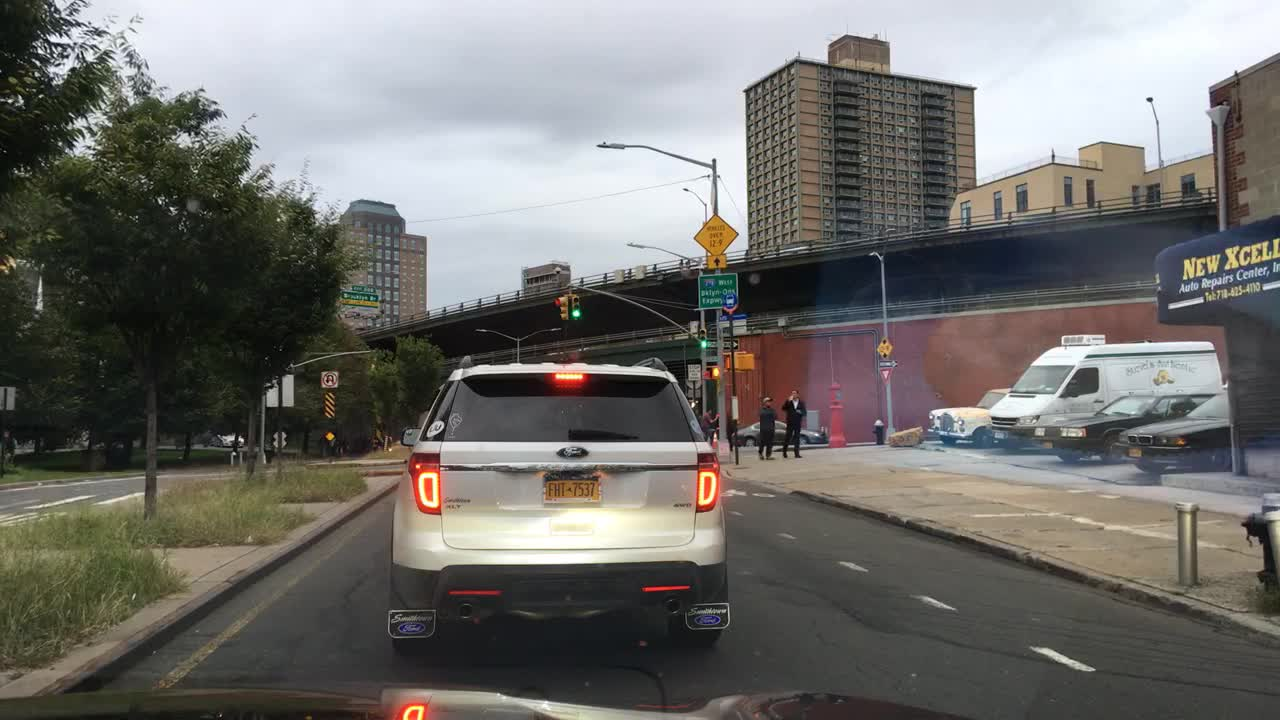car: (388, 362, 729, 658), (987, 339, 1221, 452), (1030, 394, 1214, 461), (1111, 392, 1233, 475), (929, 385, 1013, 447), (734, 416, 832, 448), (975, 386, 1015, 412), (214, 432, 244, 449)
person: (753, 397, 778, 459), (780, 387, 802, 456), (700, 403, 718, 440)
traffic light: (554, 295, 572, 324), (726, 351, 753, 370), (706, 364, 720, 381), (696, 330, 707, 350), (571, 289, 578, 319)
traffic sign: (694, 218, 736, 254), (696, 274, 735, 309), (341, 285, 380, 312), (263, 375, 295, 405), (1, 386, 13, 415), (877, 337, 892, 359), (878, 365, 893, 381), (704, 254, 721, 268), (689, 360, 699, 383), (270, 432, 285, 446), (320, 372, 335, 385), (686, 391, 701, 402), (875, 359, 898, 365), (325, 429, 338, 439)
